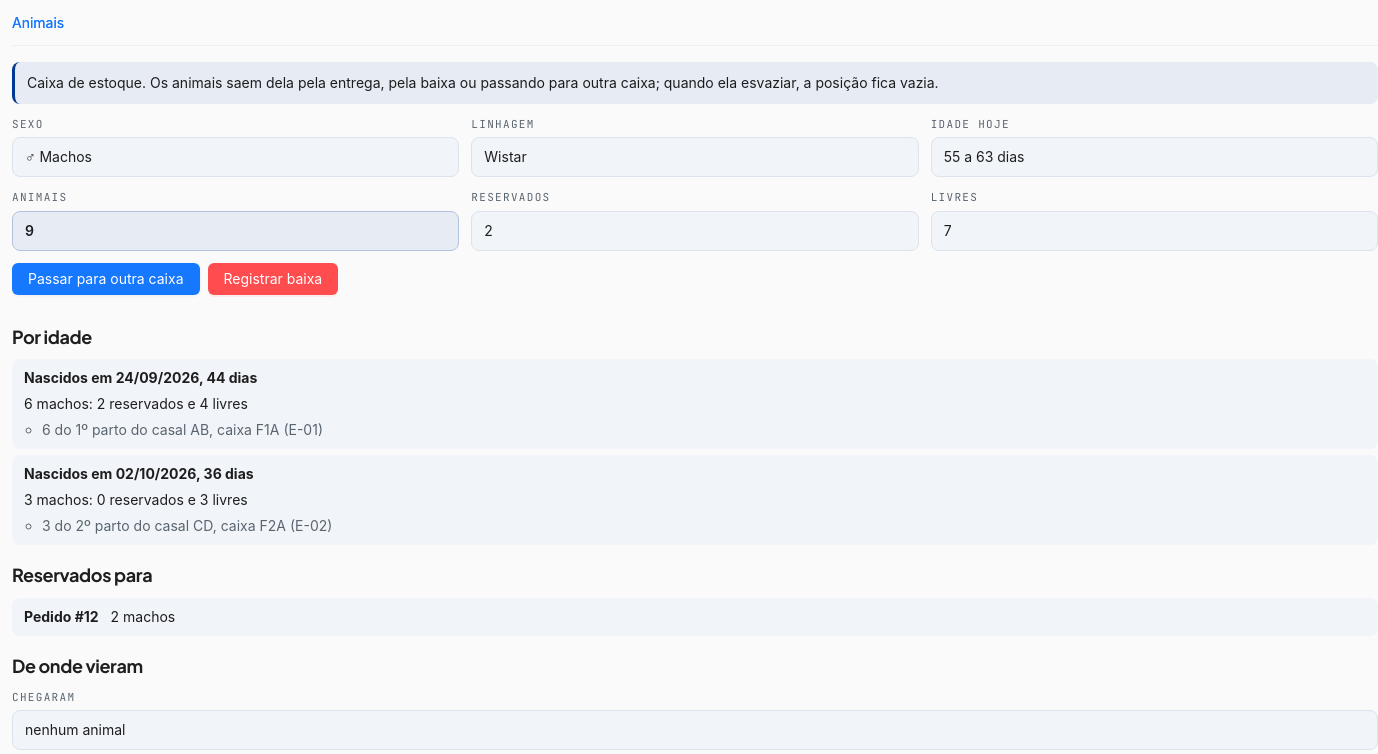
ficha da caixa de estoque › levar só os reservados de um pedido vale na idade que os tem
This screenshot has width=1378, height=754.
Click the button "Passar para outra caixa" at (106, 279), box [12,263,200,295]
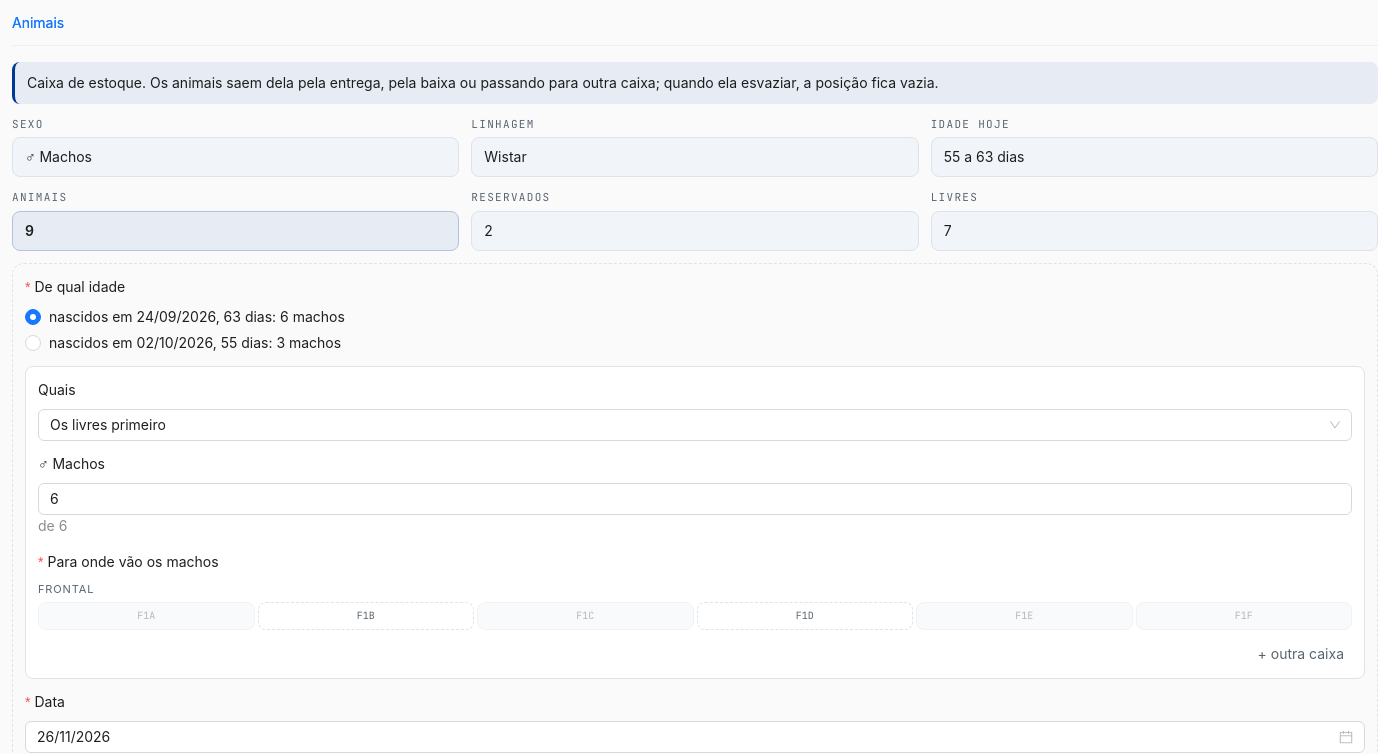
Note: os 2 reservados do #12 são de 24/09, a idade que a mudança abre
Press the mouse on the dropdown named "Quais machos" at (64, 390), box [38,379,90,401]
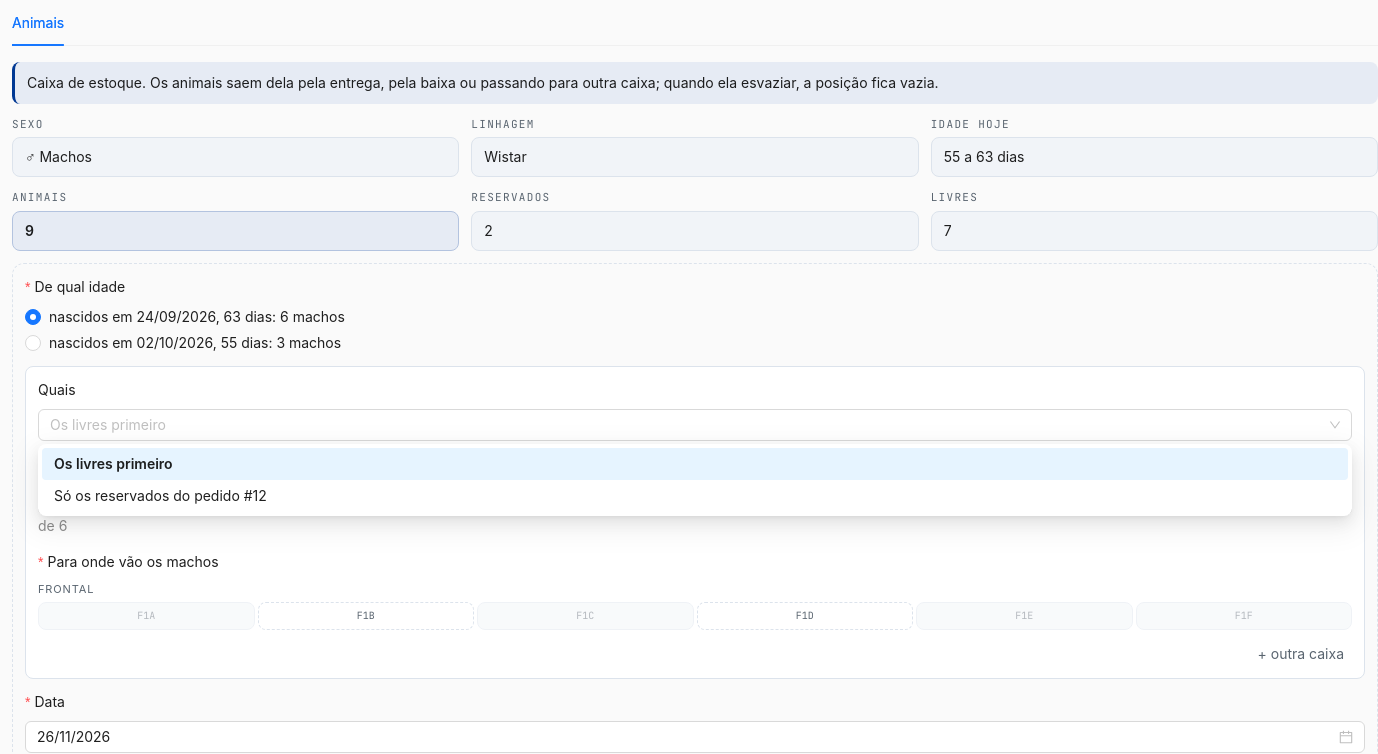
Click the element titled "Só os reservados do pedido #12" at (160, 496), box [54,487,267,504]
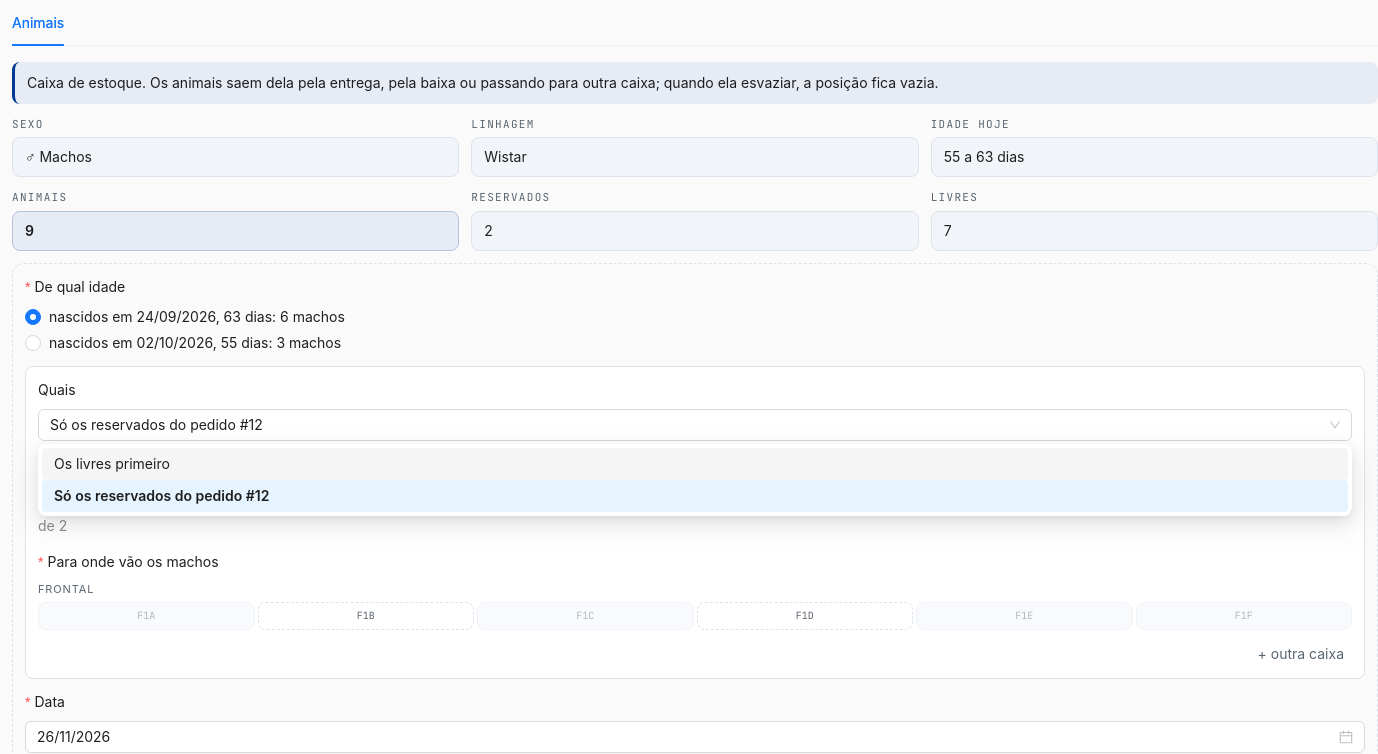
Expected: the number field named "Quantos machos" holds "2", [39,484,1351,514]
Click the radio button labelled "nascidos em 02/10/2026, 55 dias: 3 machos" at (183, 342), box [25,334,341,351]
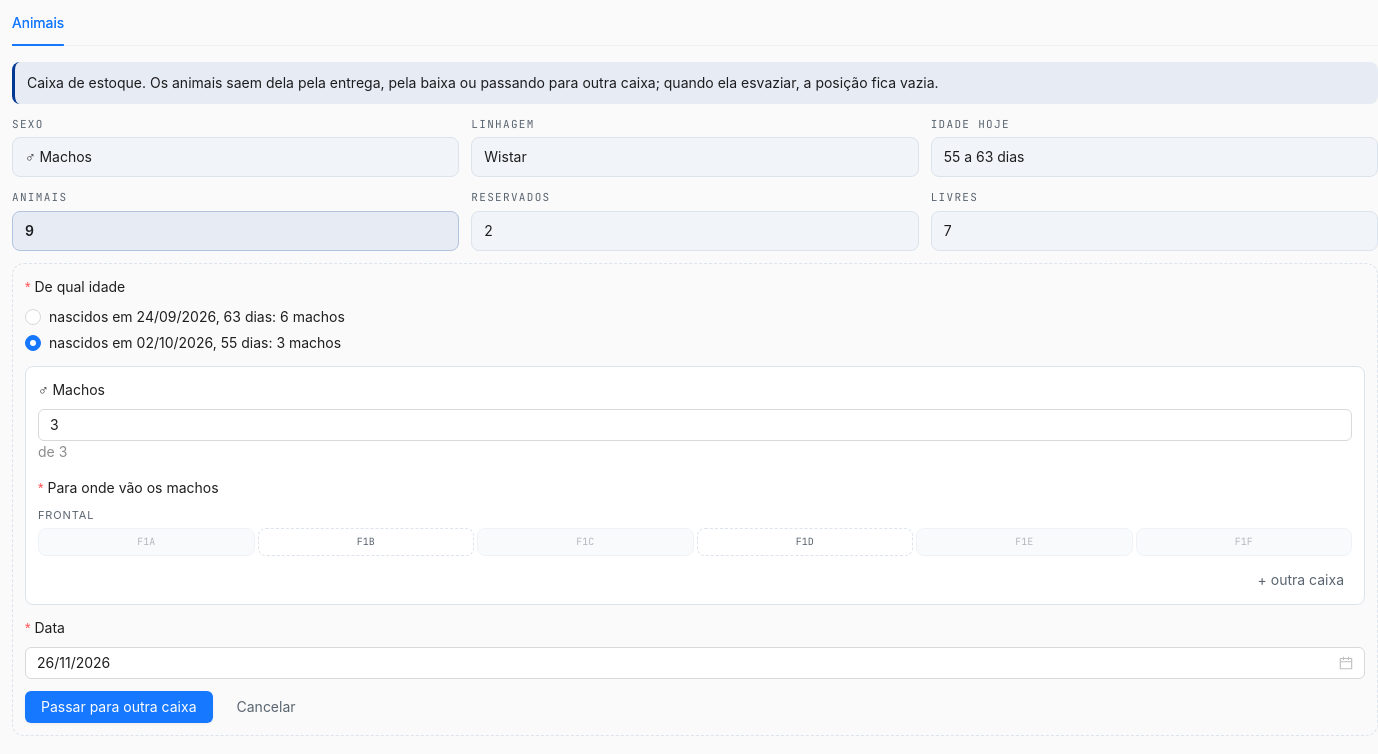
Expected: the number field named "Quantos machos" holds "3", [39,410,1351,440]
